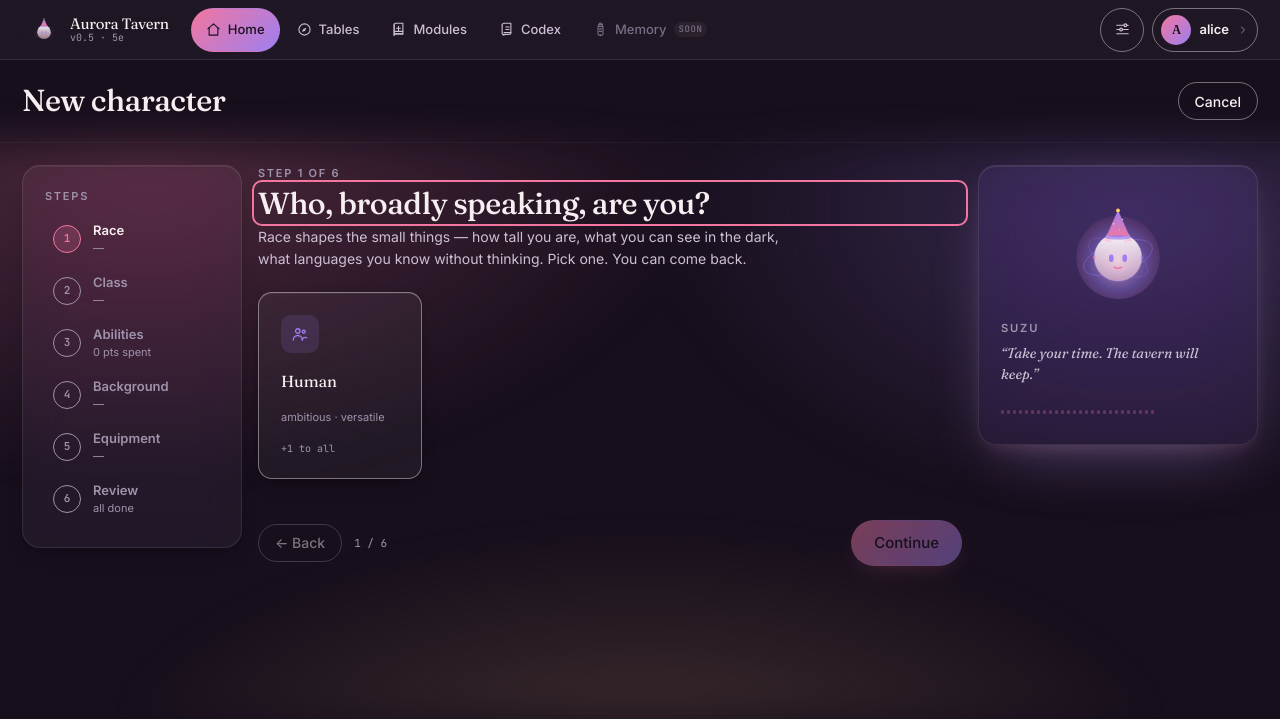
Test case: Subclass step presence (TAV-WIZARD-HOMEBREW-CASTERS) › content-bug empty state: subclassLevel:1 but zero seeded subclass rows — Continue stays disabled
The width and height of the screenshot is (1280, 719).
Click the radio button labelled "Human ambitious · versatile +1 to all" at (340, 386), box [258, 292, 422, 479]
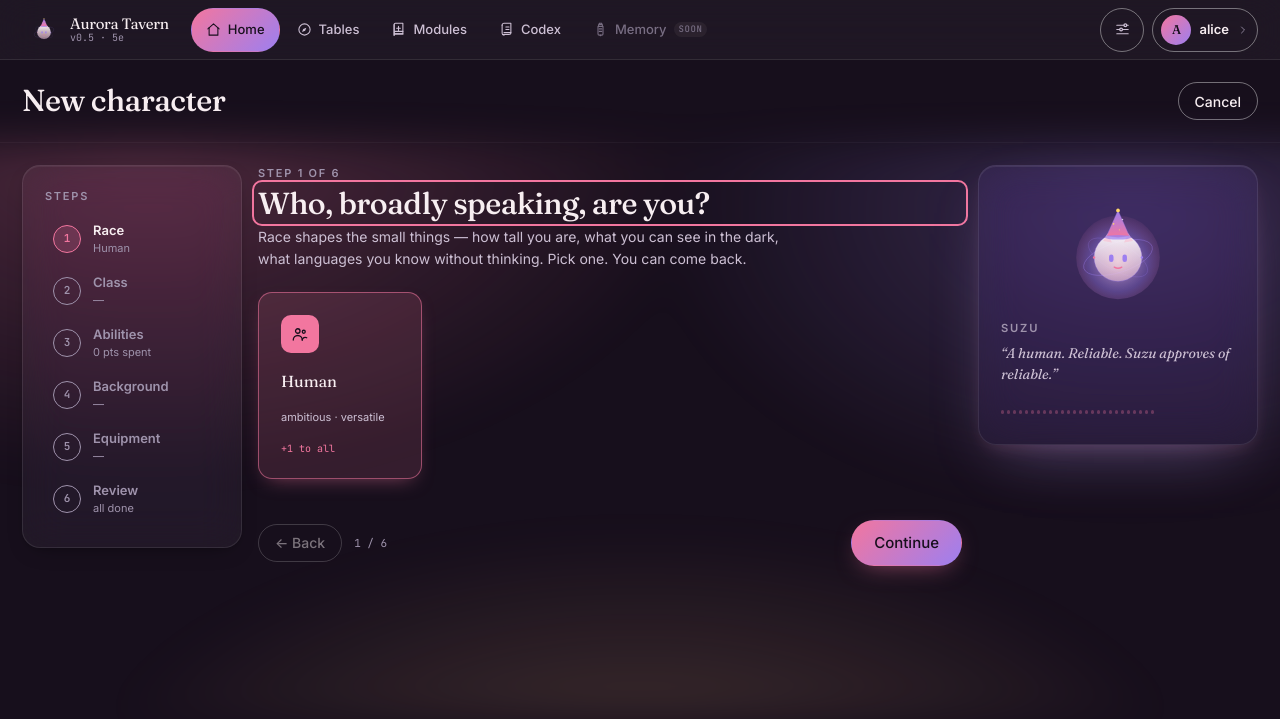
Click the button "Continue" at (907, 543), box [851, 520, 962, 566]
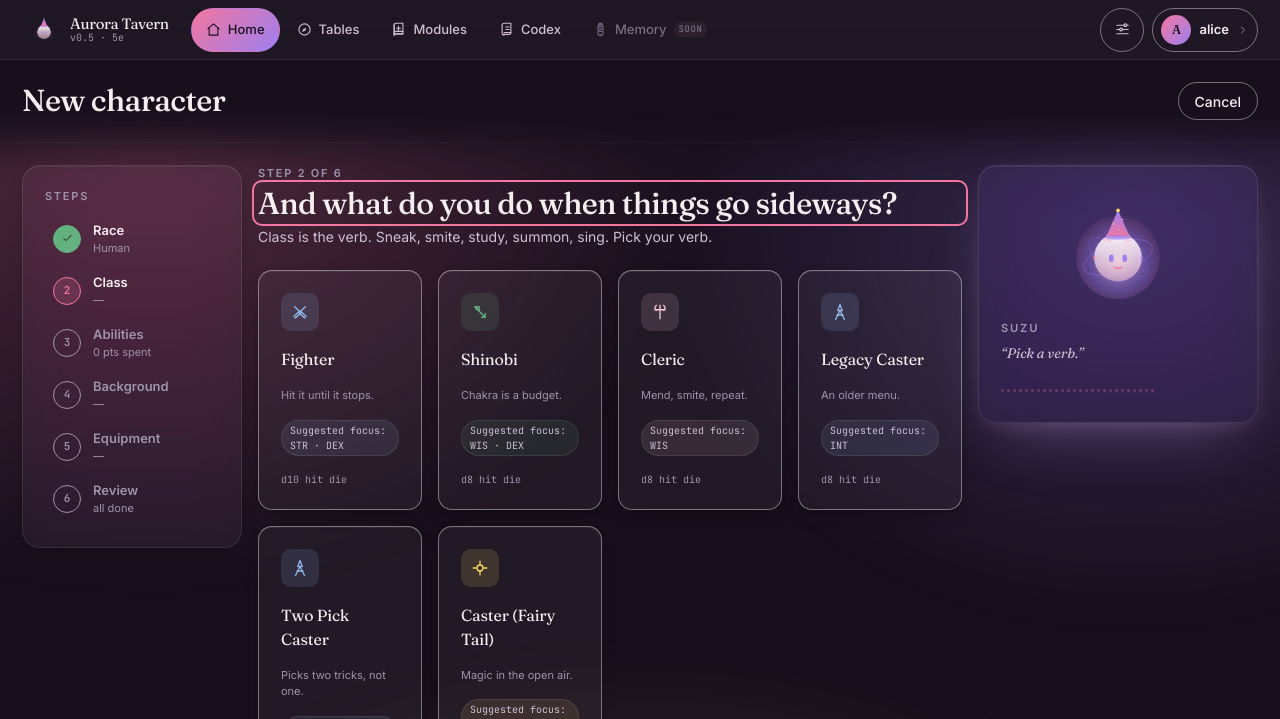
Click the radio button labelled "Shinobi" at (520, 390), box [438, 270, 602, 510]
(page scrolled)
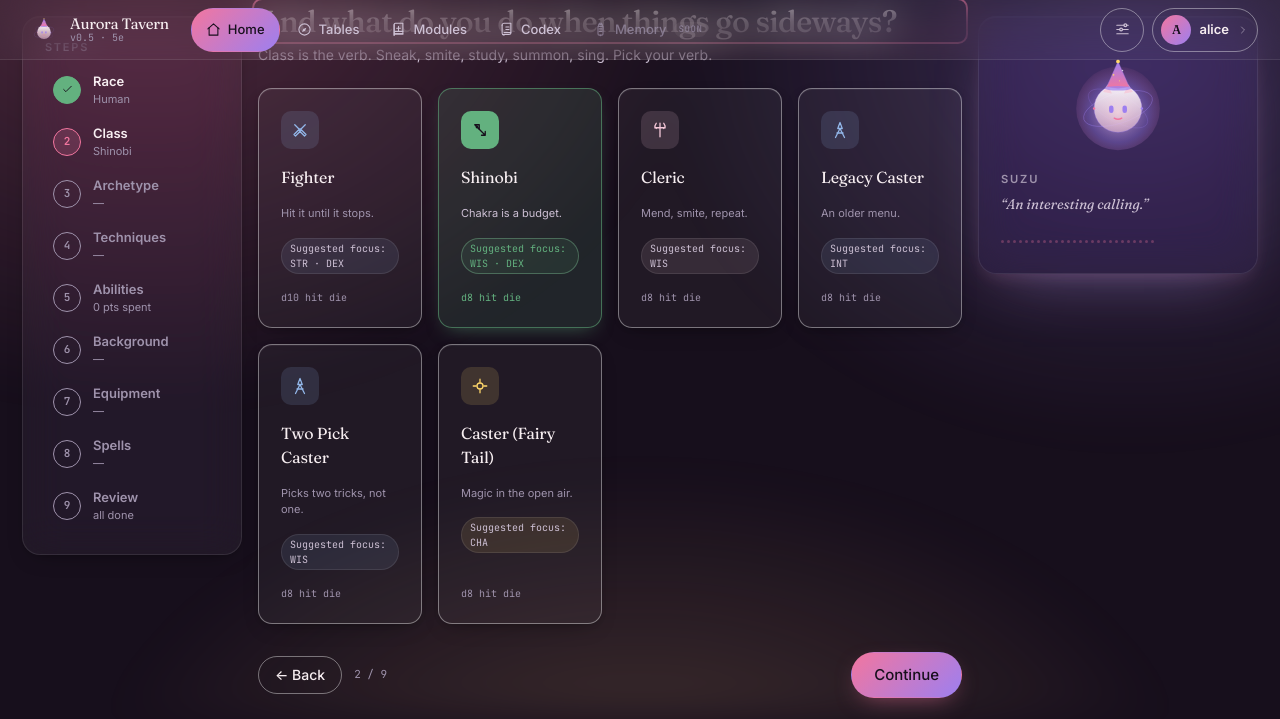
Click the button "Continue" at (907, 675), box [851, 652, 962, 698]
(page scrolled)
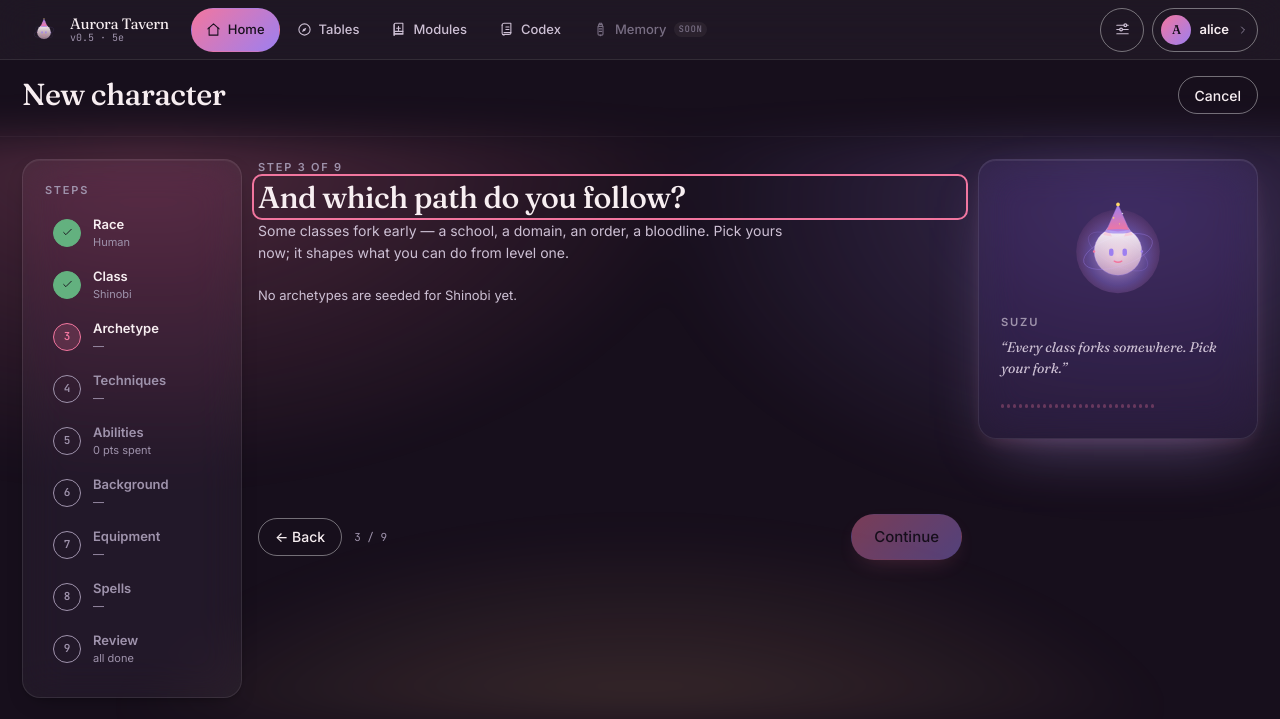
Now the text "No archetypes are seeded for Shinobi yet." is shown, box [258, 287, 517, 303]
Now the button "Continue" is disabled, box [851, 514, 962, 560]
